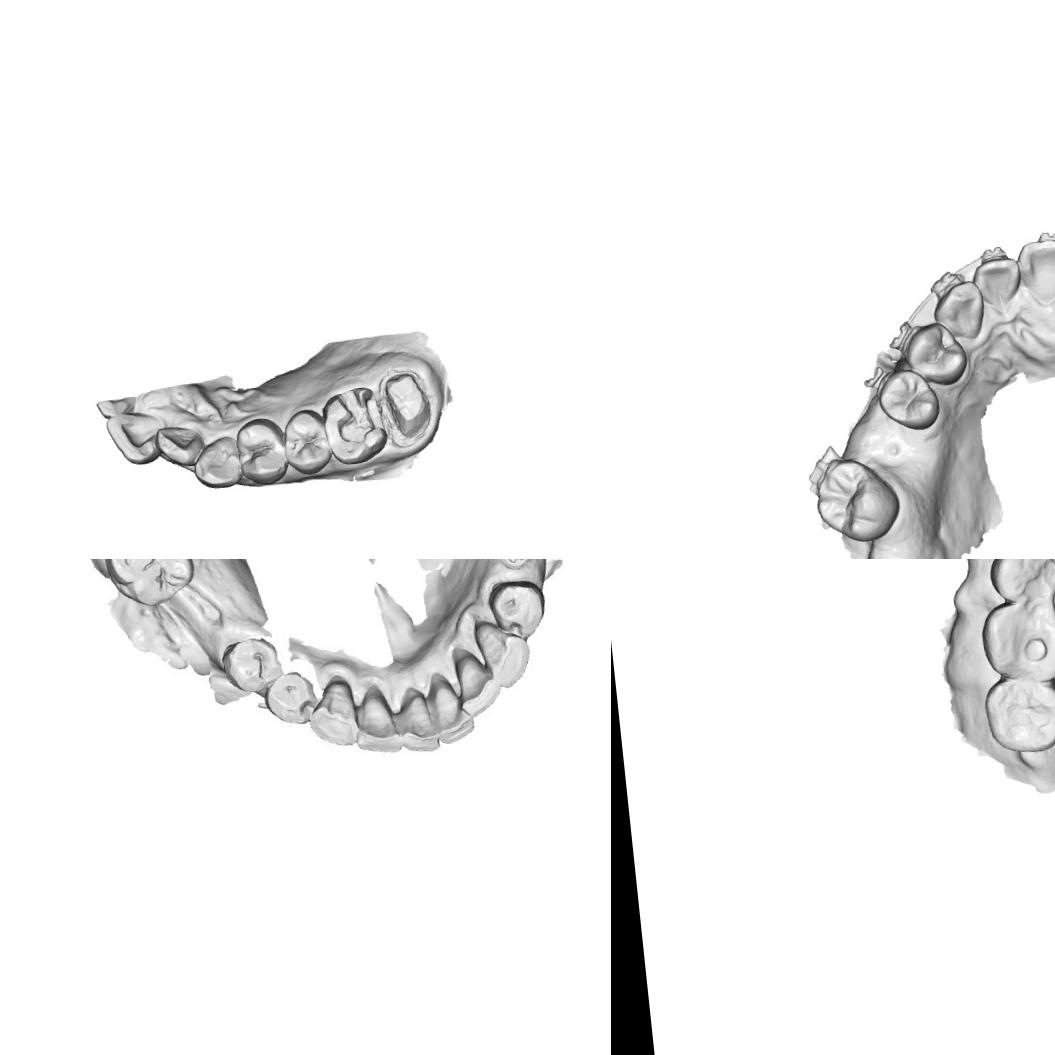canine: (469, 611, 535, 693), (303, 678, 364, 750), (930, 278, 988, 344), (190, 432, 244, 492)
crown: (380, 367, 436, 442)
implant_plus: (493, 559, 538, 576)
incisor: (104, 408, 173, 469), (350, 682, 402, 756), (430, 671, 476, 748), (970, 253, 1026, 312), (454, 650, 500, 717), (1013, 234, 1055, 307), (395, 686, 438, 755), (153, 421, 206, 469)
inlay: (332, 386, 386, 452)
molar: (808, 450, 904, 548), (975, 596, 1055, 687), (980, 673, 1055, 759), (100, 559, 199, 611)
premolar: (899, 317, 972, 391), (873, 364, 944, 436), (232, 415, 292, 488), (222, 633, 284, 699), (491, 575, 553, 640), (280, 405, 334, 478), (983, 559, 1055, 609), (266, 672, 322, 726)
